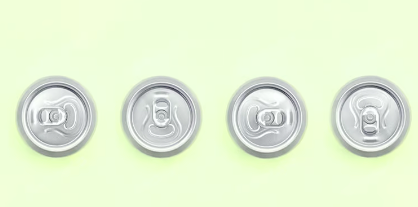Intacto: (231, 78, 306, 155), (336, 78, 411, 154), (127, 78, 198, 157), (19, 82, 94, 151)
